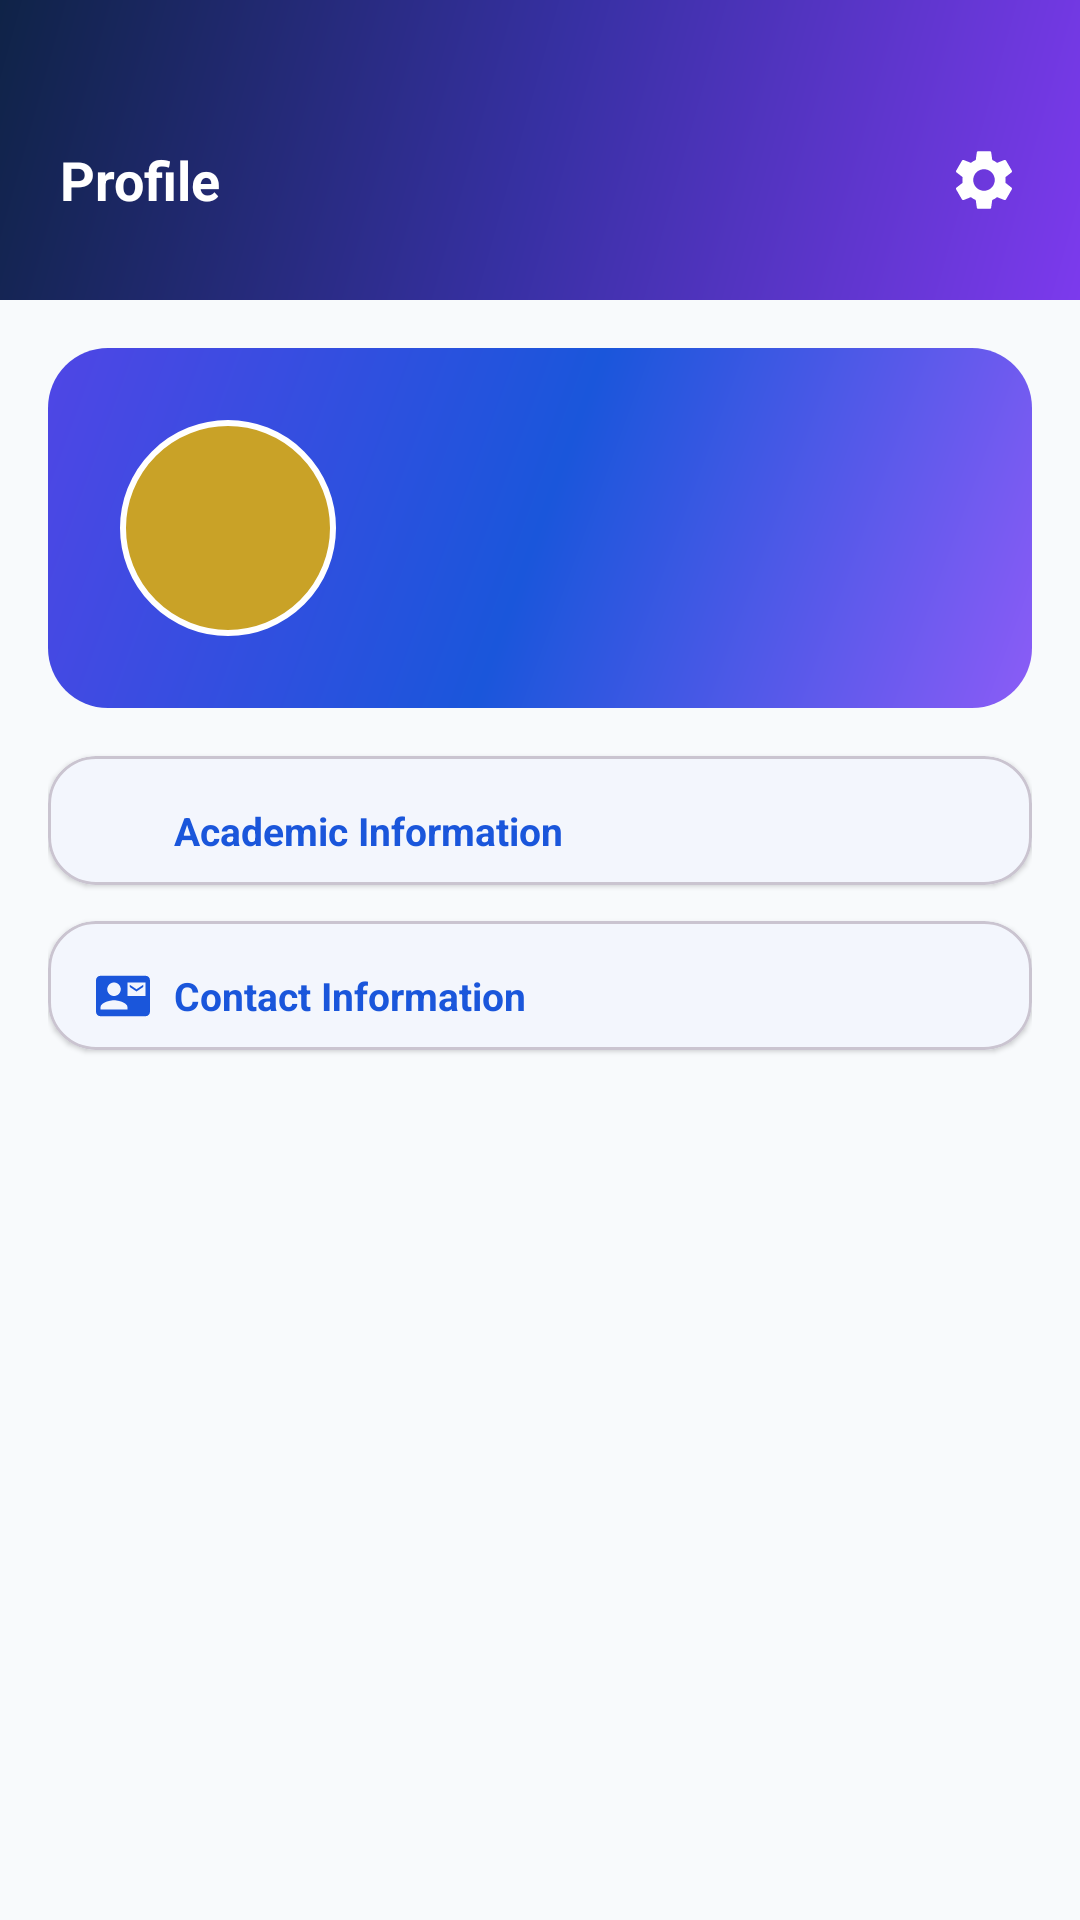

Icon bounding boxes for this 1080px x 1920px phone screenshot, format (x1, y1, x2, y2):
contact mail: (96, 975, 150, 1017)
Settings: (956, 151, 1012, 209)
